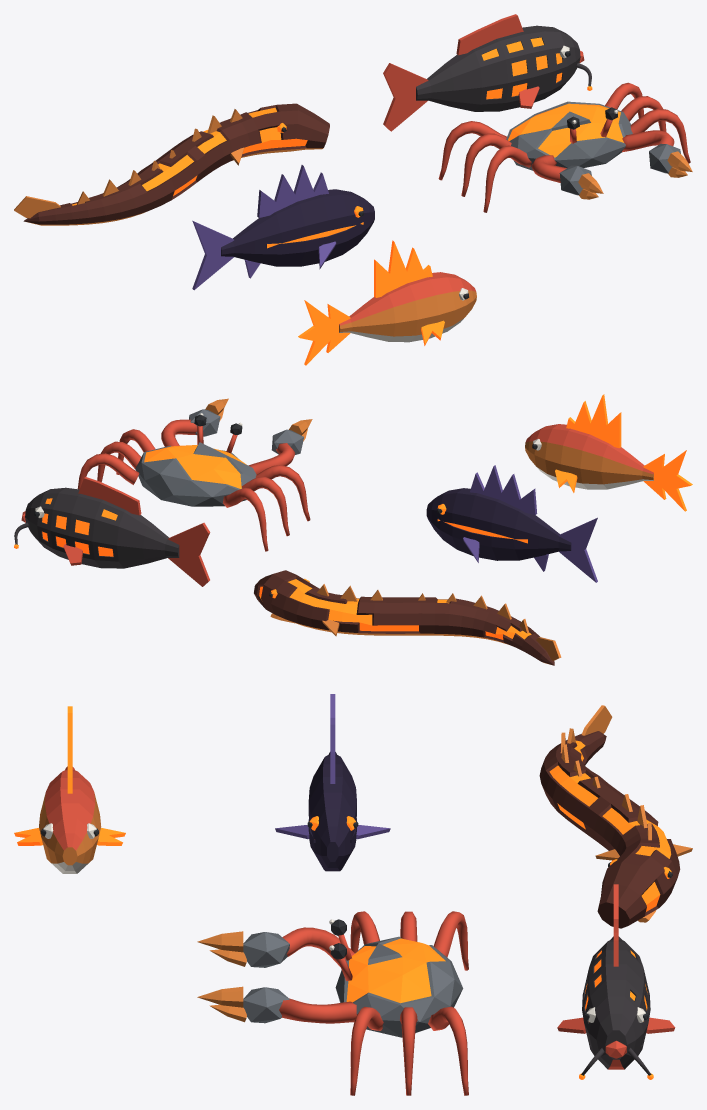
Rendered from lava-fish-pack.glb.
3 renders of one model, top to bottom at view 1: azimuth 30°, elevation 25°; view 2: azimuth 150°, elevation 25°; view 3: azimuth 270°, elevation 25°, orthographic. The views are drawn at different scales.
Visible parts, largest first — view 1: Eel_Body, Carp_Body, Obsidian_Body, Flame_Body, Crab_Body, Carp_Tail, Crab_Claw_R, Flame_Dorsal, Flame_Tail, Obsidian_Dorsal, Crab_Claw_L, Obsidian_Tail (+9 smaller); view 2: Eel_Body, Carp_Body, Obsidian_Body, Crab_Body, Flame_Body, Carp_Tail, Flame_Dorsal, Obsidian_Dorsal, Flame_Tail, Crab_Claw_L, Crab_Claw_R, Obsidian_Tail (+8 smaller); view 3: Eel_Body, Crab_Body, Carp_Body, Flame_Body, Obsidian_Body, Crab_Claw_R, Crab_Claw_L, Crab_Leg_R3, Crab_Leg_R1, Crab_Leg_L3, Crab_Leg_R2, Eel_Crest (+1 smaller).
Part boxes in pixels (bbox=[...]): Eel_Body: bbox=[23, 103, 329, 225]; Carp_Body: bbox=[416, 25, 580, 111]; Obsidian_Body: bbox=[221, 189, 374, 266]; Flame_Body: bbox=[339, 272, 476, 342]; Crab_Body: bbox=[506, 101, 632, 170]; Carp_Tail: bbox=[383, 63, 428, 131]; Crab_Claw_R: bbox=[622, 130, 692, 173]; Flame_Dorsal: bbox=[374, 240, 432, 297]; Flame_Tail: bbox=[298, 300, 350, 365]; Obsidian_Dorsal: bbox=[257, 165, 328, 217]; Crab_Claw_L: bbox=[531, 155, 603, 195]; Obsidian_Tail: bbox=[192, 220, 233, 290]; Eel_Body: bbox=[254, 570, 554, 665]; Carp_Body: bbox=[25, 487, 179, 568]; Obsidian_Body: bbox=[426, 488, 571, 560]; Crab_Body: bbox=[135, 442, 256, 506]; Flame_Body: bbox=[525, 424, 653, 489]; Carp_Tail: bbox=[168, 522, 210, 586]; Flame_Dorsal: bbox=[566, 394, 621, 448]; Obsidian_Dorsal: bbox=[470, 465, 537, 514]; Flame_Tail: bbox=[643, 450, 692, 511]; Crab_Claw_L: bbox=[248, 419, 312, 474]; Crab_Claw_R: bbox=[161, 398, 228, 446]; Obsidian_Tail: bbox=[558, 517, 597, 582]; Eel_Body: bbox=[539, 731, 680, 928]; Crab_Body: bbox=[335, 936, 463, 1037]; Carp_Body: bbox=[582, 936, 650, 1069]; Flame_Body: bbox=[39, 766, 101, 873]; Obsidian_Body: bbox=[308, 752, 356, 871]; Crab_Claw_R: bbox=[197, 986, 356, 1023]; Crab_Claw_L: bbox=[197, 927, 354, 967]; Crab_Leg_R3: bbox=[428, 1006, 468, 1095]; Crab_Leg_R1: bbox=[350, 1006, 383, 1095]; Crab_Leg_L3: bbox=[433, 911, 468, 970]; Crab_Leg_R2: bbox=[400, 1007, 417, 1095]; Eel_Crest: bbox=[560, 728, 651, 840].
Size of the model in its own units: 13.56 by 2.32 by 10.89.
